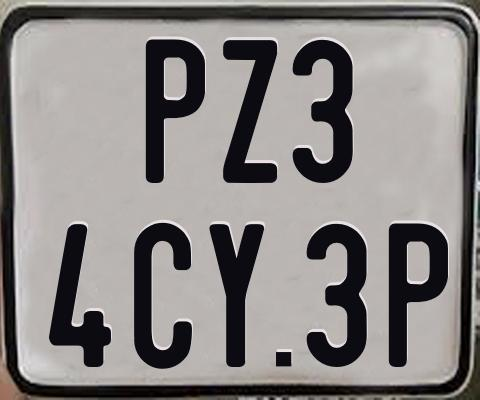3: (292, 39, 359, 184), (305, 221, 369, 368)
4: (47, 223, 115, 367)
C: (131, 222, 192, 369)
P: (387, 223, 447, 370), (143, 36, 202, 182)
Y: (206, 222, 267, 371)
Z: (223, 37, 280, 183)
